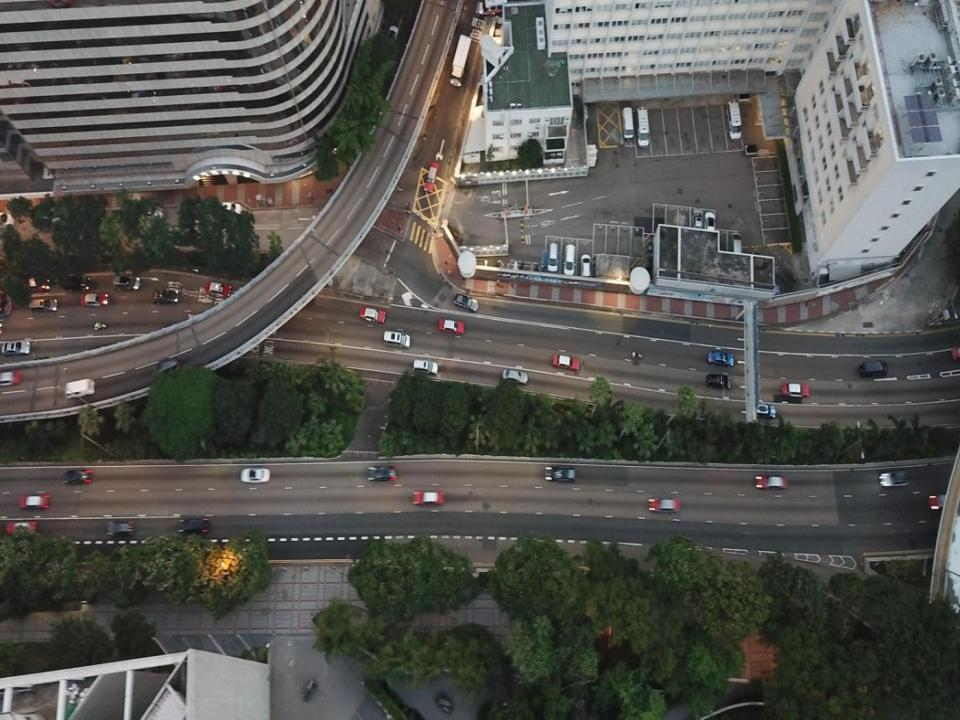bus: (727, 98, 742, 140), (636, 106, 649, 147), (622, 107, 634, 141)
car: (423, 161, 440, 194), (453, 293, 479, 312), (501, 368, 528, 386), (178, 518, 208, 534), (648, 498, 680, 513), (879, 471, 909, 487), (453, 292, 478, 311), (360, 306, 386, 324), (19, 495, 50, 510), (545, 466, 576, 481), (552, 354, 579, 371), (240, 468, 270, 483), (61, 470, 93, 484), (106, 520, 134, 536), (205, 281, 231, 298), (754, 476, 788, 489), (154, 359, 180, 376), (368, 465, 397, 480), (929, 494, 958, 509), (6, 522, 36, 536), (438, 319, 464, 335), (781, 383, 809, 397), (412, 492, 444, 504), (152, 290, 179, 304), (0, 370, 23, 386), (80, 293, 108, 306), (708, 352, 734, 366), (215, 202, 241, 216), (137, 207, 163, 221), (580, 254, 592, 282), (752, 404, 775, 418), (704, 211, 715, 239), (1, 342, 31, 352), (693, 208, 704, 233), (0, 212, 14, 228)
truck: (450, 33, 472, 87), (65, 378, 95, 398)
van: (383, 331, 410, 348), (62, 275, 90, 291), (476, 1, 506, 15), (706, 373, 730, 390), (563, 245, 575, 278), (112, 276, 140, 290), (28, 299, 58, 312), (412, 359, 438, 374), (546, 243, 559, 273), (860, 362, 888, 375), (0, 291, 12, 318), (730, 232, 742, 259)
